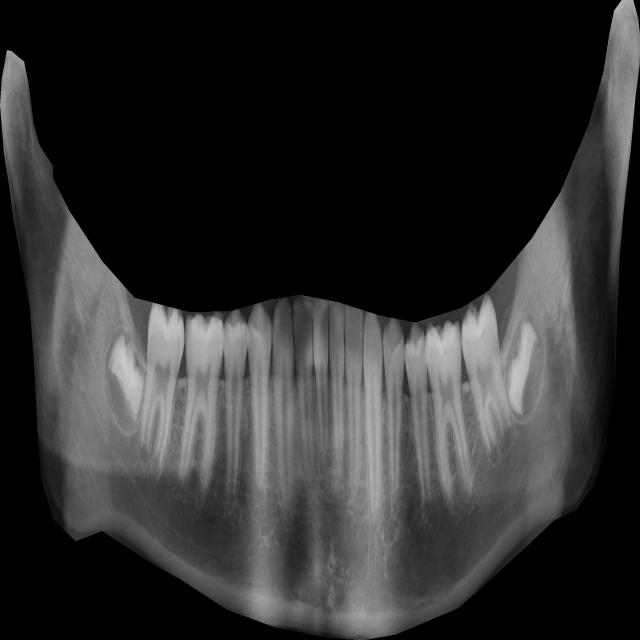mandibula: (0, 0, 640, 640)
